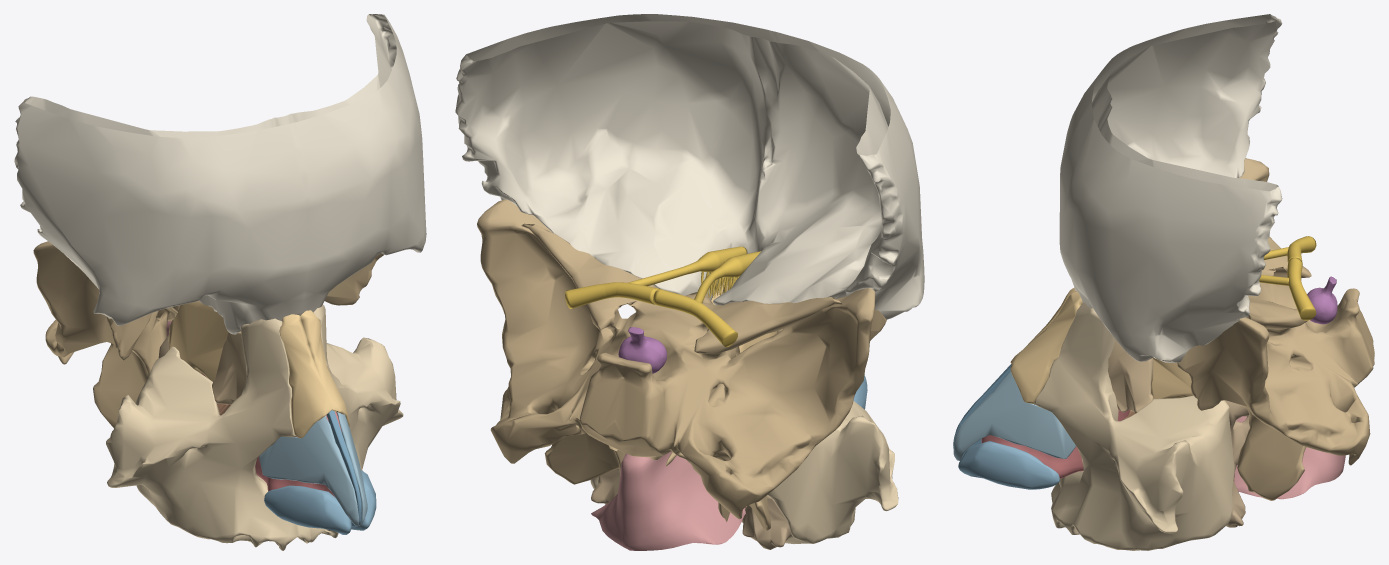
File: nose.glb
The picture shows the model from 3 angles, left to right: view 1: azimuth 30°, elevation 25°; view 2: azimuth 150°, elevation 25°; view 3: azimuth 270°, elevation 25°; orthographic projection. The views are drawn at different scales.
Visible parts, largest first — view 1: frontal-bone, maxillae, sphenoid-bone, lateral-cartilages, nasal-bones, alar-cartilages, ethmoid, lacrimal-bones, septal-cartilage, nasal-cavity; view 2: frontal-bone, sphenoid-bone, maxillae, nasopharynx, olfactory-nerves, palatine-bones, pituitary; view 3: frontal-bone, maxillae, sphenoid-bone, lateral-cartilages, alar-cartilages, nasal-bones, lacrimal-bones, nasopharynx, olfactory-nerves, palatine-bones, ethmoid, nasal-cavity (+1 smaller).
Boxes of the visible parts, x1,y1,x2,y2 form: frontal-bone: (14, 14, 426, 334); maxillae: (106, 304, 403, 550); sphenoid-bone: (33, 241, 383, 427); lateral-cartilages: (259, 412, 367, 526); nasal-bones: (279, 310, 350, 438); alar-cartilages: (264, 470, 376, 534); ethmoid: (168, 301, 240, 381); lacrimal-bones: (212, 332, 246, 404); septal-cartilage: (326, 410, 362, 527); nasal-cavity: (201, 373, 341, 497); frontal-bone: (455, 14, 924, 319); sphenoid-bone: (477, 199, 886, 531); maxillae: (590, 277, 898, 543); nasopharynx: (591, 451, 745, 550); olfactory-nerves: (565, 246, 760, 346); palatine-bones: (591, 468, 791, 549); pituitary: (618, 327, 667, 373); frontal-bone: (1059, 14, 1282, 362); maxillae: (1034, 302, 1234, 550); sphenoid-bone: (1177, 158, 1374, 500); lateral-cartilages: (953, 371, 1075, 460); alar-cartilages: (958, 441, 1059, 489); nasal-bones: (1010, 287, 1082, 403); lacrimal-bones: (1108, 340, 1153, 413); nasopharynx: (1234, 416, 1345, 499); olfactory-nerves: (1259, 236, 1316, 320); palatine-bones: (1225, 400, 1249, 527); ethmoid: (1151, 357, 1193, 398); nasal-cavity: (981, 404, 1129, 478).
Bounding box in the file's own units: 3.06 × 3.06 × 2.84.
